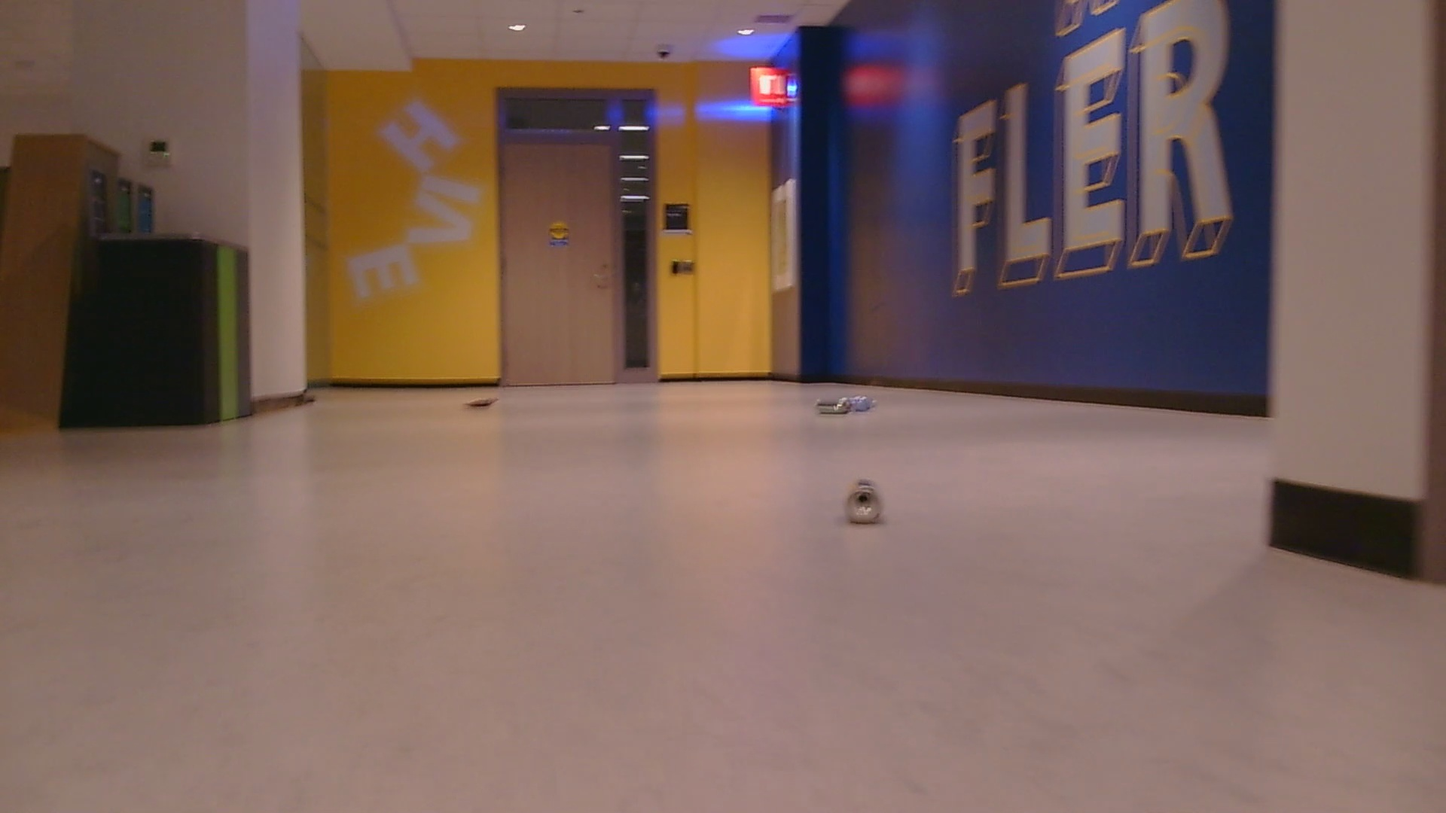can: (831, 471, 890, 530), (815, 393, 877, 416), (461, 394, 504, 412)
